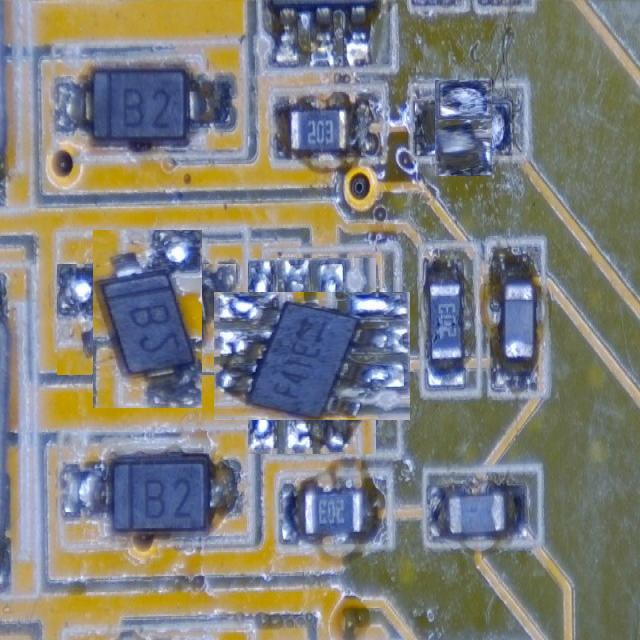Incorrect_installation: (214, 292, 409, 420), (92, 231, 202, 407), (435, 79, 492, 176)
